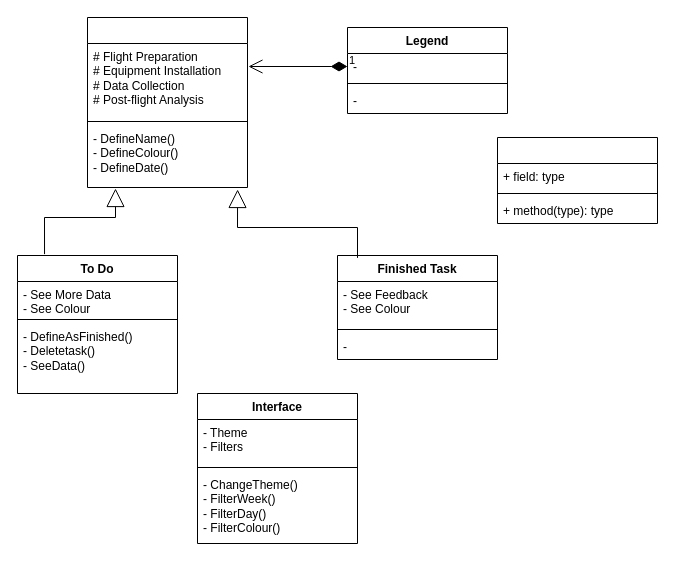
Image size: 675x564. Some labels were removed from this diagram. The box of each missing label's shape, as (x1, y1, x2, y2) in pixels:
JSON: (496, 136, 658, 224)
Task: (86, 16, 248, 188)
